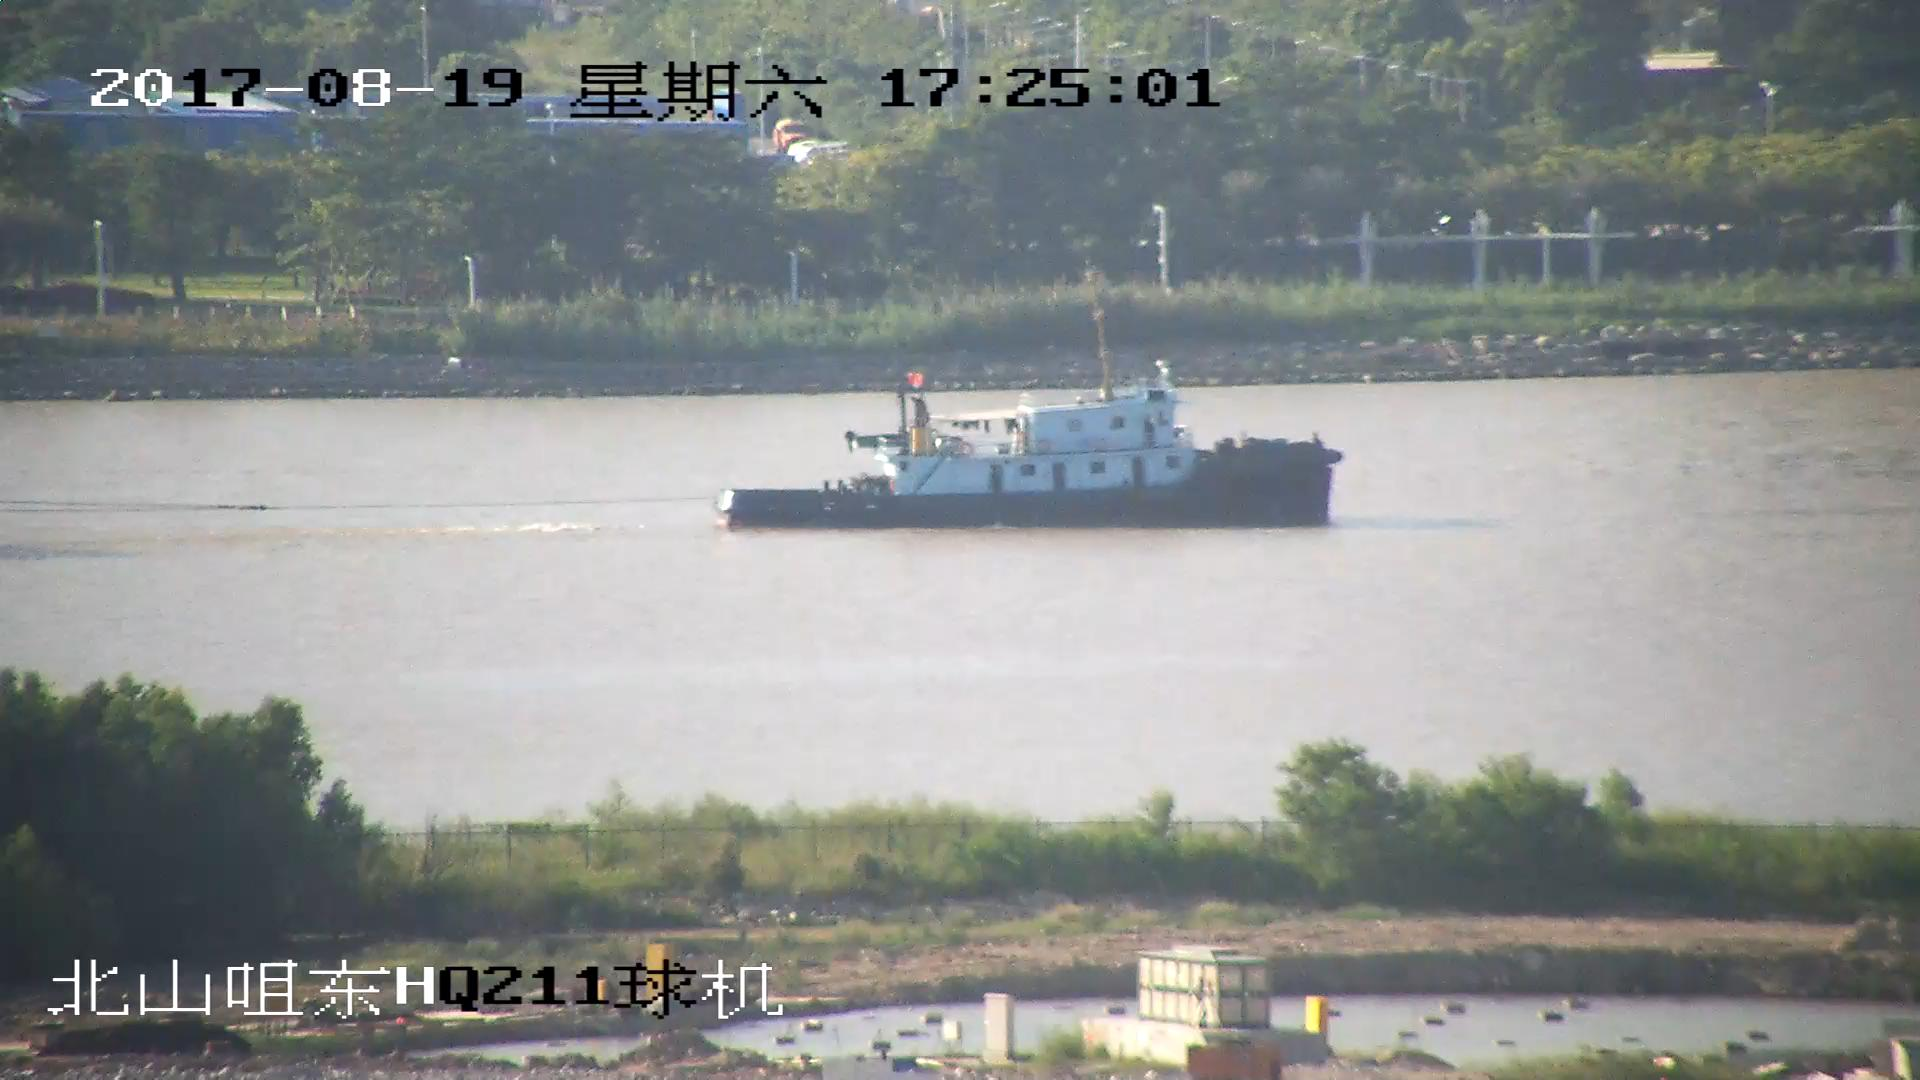fishing boat: (722, 375, 1340, 530)
